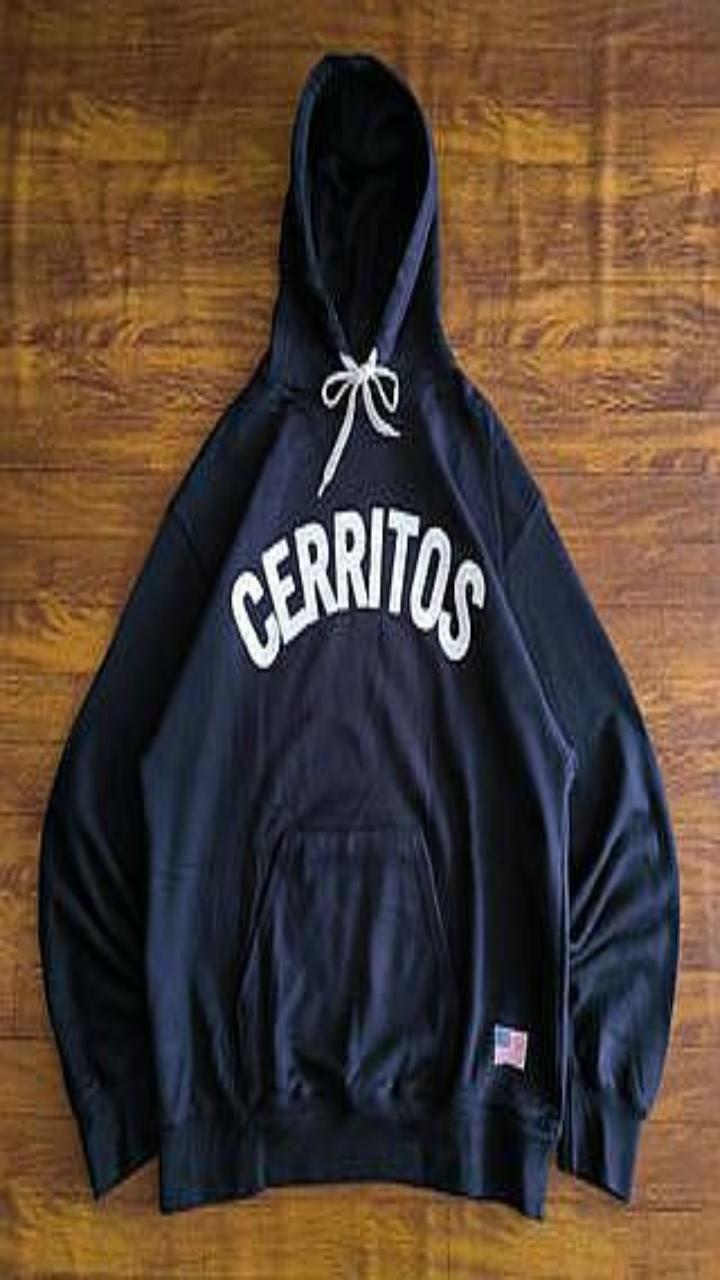Hoodie: (39, 55, 678, 1216)
